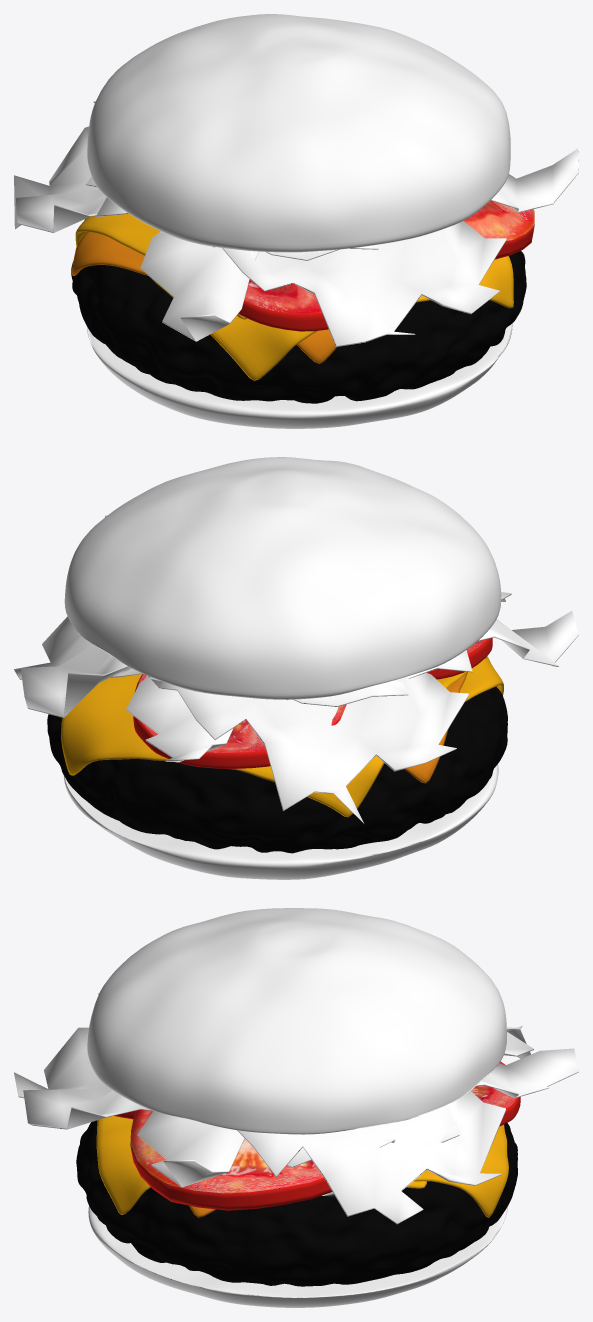
File: Big Burger.glb
3 renders of one model, top to bottom at view 1: azimuth 30°, elevation 25°; view 2: azimuth 150°, elevation 25°; view 3: azimuth 270°, elevation 25°, orthographic. The views are drawn at different scales.
Parts seen in each view (by area): view 1: TopBurger, Carne, Alface.001, baseburger, Alface.002, Alface.003, Queijo.001, Tomate.001, Queijo.002, Tomate.003, Queijo; view 2: TopBurger, Carne, Alface.002, baseburger, Alface.003, Queijo, Alface.001, Tomate.002, Queijo.001, Tomate.001, Queijo.002; view 3: TopBurger, Carne, Alface.003, Alface.001, baseburger, Tomate.003, Alface.002, Queijo.001, Queijo, Tomate.002.
Boxes of the visible parts, bbox=[...] form: TopBurger: bbox=[87, 14, 510, 252]; Carne: bbox=[71, 251, 526, 403]; Alface.001: bbox=[93, 101, 506, 346]; baseburger: bbox=[87, 323, 512, 428]; Alface.002: bbox=[14, 126, 578, 260]; Alface.003: bbox=[86, 177, 258, 341]; Queijo.001: bbox=[149, 256, 513, 380]; Tomate.001: bbox=[238, 279, 328, 331]; Queijo.002: bbox=[72, 232, 337, 363]; Tomate.003: bbox=[464, 200, 534, 259]; Queijo: bbox=[75, 214, 247, 319]; TopBurger: bbox=[64, 457, 501, 699]; Carne: bbox=[47, 686, 507, 853]; Alface.002: bbox=[105, 515, 469, 823]; baseburger: bbox=[63, 764, 498, 879]; Alface.003: bbox=[14, 611, 578, 717]; Queijo: bbox=[61, 656, 486, 817]; Alface.001: bbox=[110, 591, 511, 762]; Tomate.002: bbox=[133, 674, 346, 768]; Queijo.001: bbox=[459, 656, 503, 701]; Tomate.001: bbox=[427, 638, 492, 679]; Queijo.002: bbox=[404, 672, 467, 783]; TopBurger: bbox=[87, 908, 506, 1134]; Carne: bbox=[76, 1120, 517, 1286]; Alface.003: bbox=[98, 992, 505, 1224]; Alface.001: bbox=[14, 1027, 578, 1167]; baseburger: bbox=[88, 1206, 507, 1307]; Tomate.003: bbox=[130, 1109, 332, 1210]; Alface.002: bbox=[137, 1025, 533, 1187]; Queijo.001: bbox=[96, 1116, 426, 1214]; Queijo: bbox=[414, 1124, 508, 1217]; Tomate.002: bbox=[471, 1061, 520, 1126].
Size of the model in its own units: 0.1953 by 0.1333 by 0.2165.
8 materials, 2 textured.
